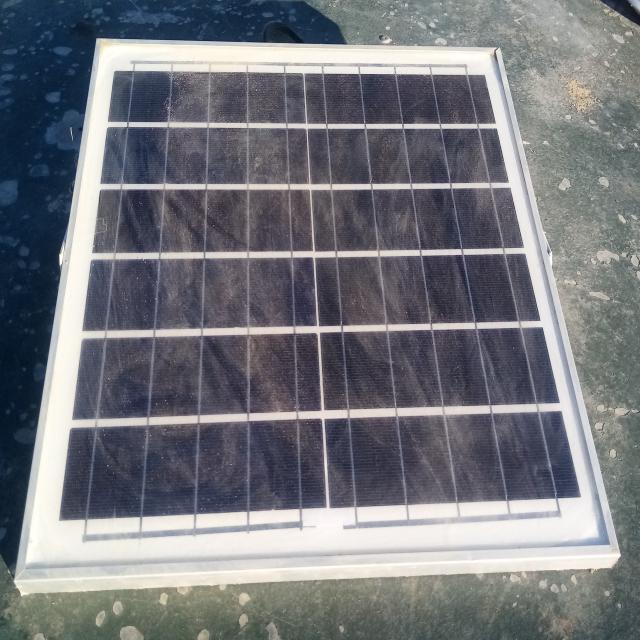faulty: (20, 43, 622, 576)
